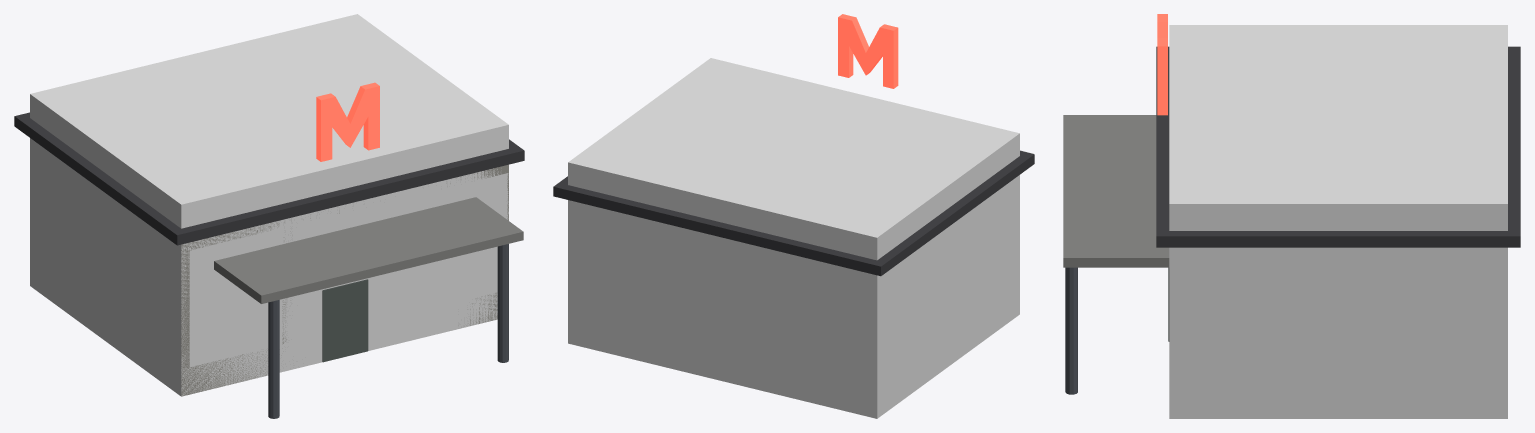
The model's file is metro_entrance.glb.
3 views of the same model, side by side, from view 1: azimuth 30°, elevation 25°; view 2: azimuth 150°, elevation 25°; view 3: azimuth 270°, elevation 25° (orthographic). The views are drawn at different scales.
Parts seen in each view (by area): view 1: metro_entrance-col, canopy, roof, shopfront, door, letter_M, canopy_post, canopy_post.001; view 2: metro_entrance-col, roof, letter_M; view 3: metro_entrance-col, canopy, roof, canopy_post.001, letter_M.
Boxes of the visible parts, <box> form: metro_entrance-col: <box>30,14,508,396</box>; canopy: <box>214,197,523,303</box>; roof: <box>14,112,524,245</box>; shopfront: <box>181,164,508,396</box>; door: <box>322,279,368,362</box>; letter_M: <box>316,82,379,161</box>; canopy_post: <box>268,300,279,418</box>; canopy_post.001: <box>497,244,508,362</box>; metro_entrance-col: <box>568,58,1019,418</box>; roof: <box>553,151,1034,276</box>; letter_M: <box>838,14,898,88</box>; metro_entrance-col: <box>1169,25,1507,418</box>; canopy: <box>1063,115,1169,267</box>; roof: <box>1156,46,1520,247</box>; canopy_post.001: <box>1065,267,1077,394</box>; letter_M: <box>1157,14,1167,115</box>.
Bounding box in the file's own units: 10.6 × 7.8 × 10.8.
